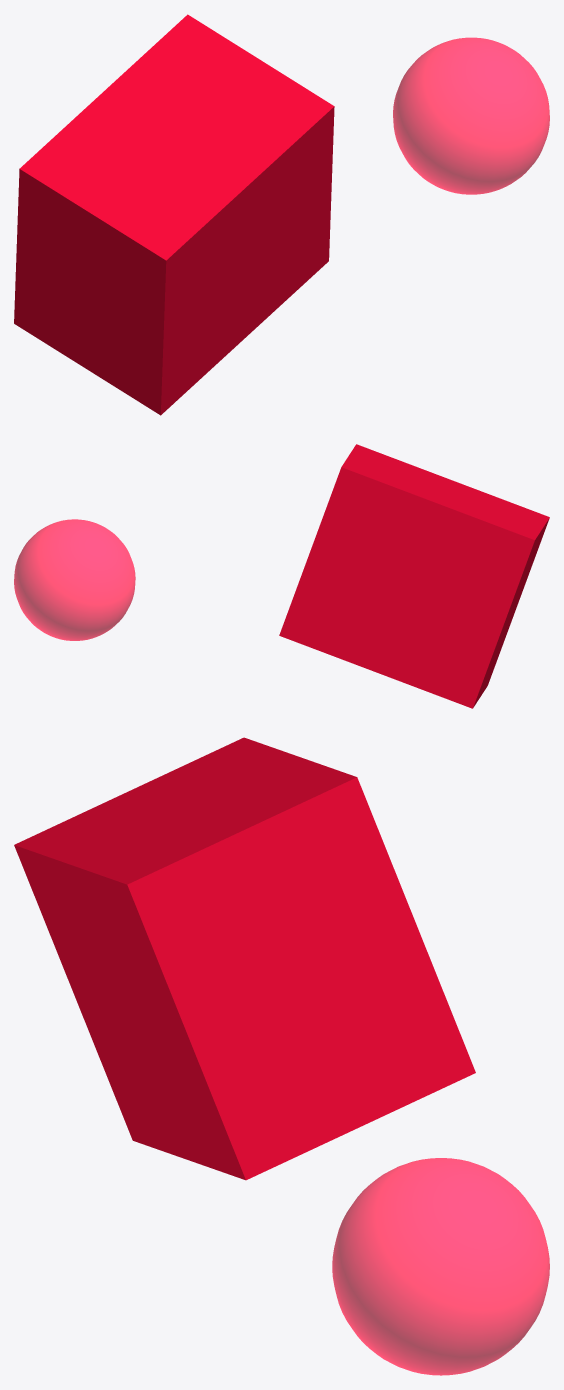
3 renders of one model, top to bottom at view 1: azimuth 30°, elevation 25°; view 2: azimuth 150°, elevation 25°; view 3: azimuth 270°, elevation 25°, orthographic. The views are drawn at different scales.
Size of the model in its own units: 4.34 by 2.21 by 2.46.
